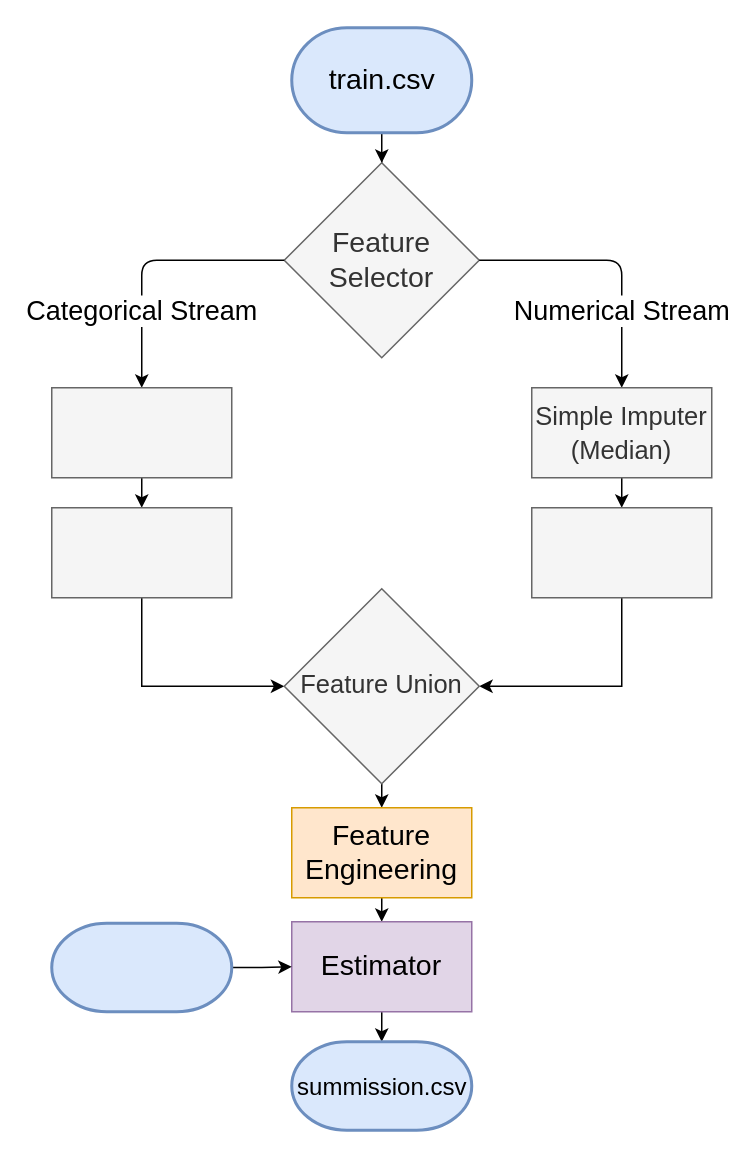
Some shapes in this 755 by 1157 pixel diagram are drawn without their labels. The centre of each missing label's shape, as x and y in pixels:
"Categorical Transformer" belongs at point (141, 432).
"One-Hot Encoder" belongs at point (141, 552).
"Standard Scalar" belongs at point (621, 552).
"test.csv" belongs at point (141, 966).
